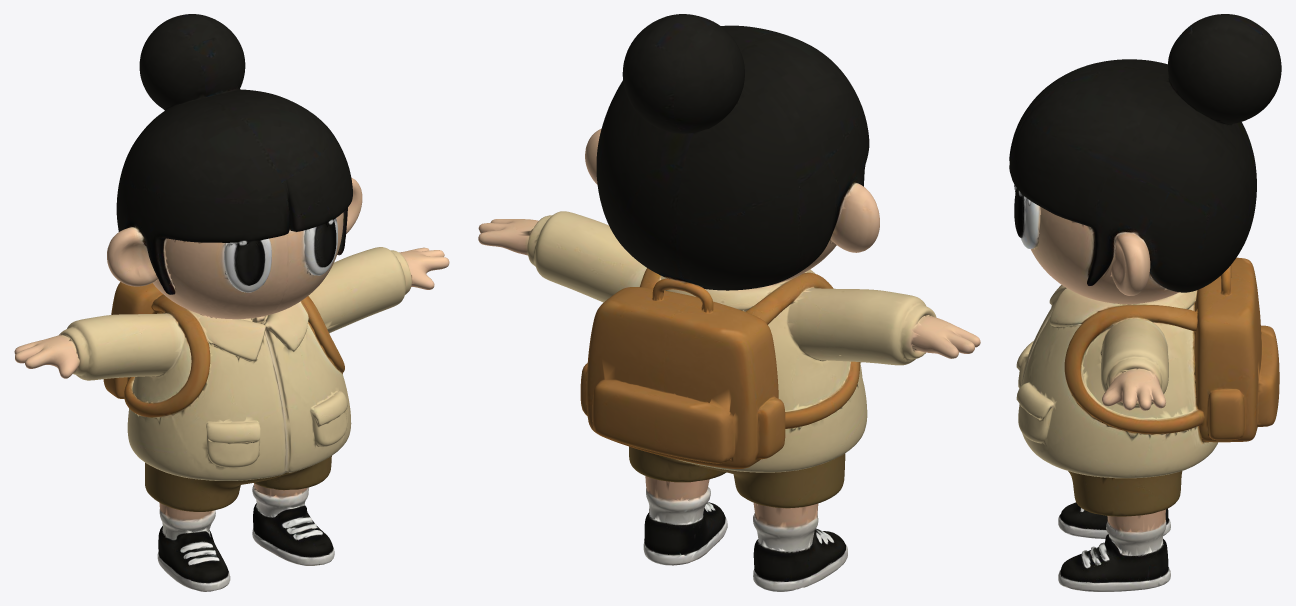
Rendered from char-bun.glb.
3 renders of one model, left to right at view 1: azimuth 30°, elevation 25°; view 2: azimuth 150°, elevation 25°; view 3: azimuth 270°, elevation 25°, orthographic. The views are drawn at different scales.
Visible parts, largest first — view 1: tripo_node_d3acd223-f219-4ece-985a-9d73b2529aa7; view 2: tripo_node_d3acd223-f219-4ece-985a-9d73b2529aa7; view 3: tripo_node_d3acd223-f219-4ece-985a-9d73b2529aa7.
Boxes of the visible parts, bbox=[...] form: tripo_node_d3acd223-f219-4ece-985a-9d73b2529aa7: bbox=[14, 14, 449, 591]; tripo_node_d3acd223-f219-4ece-985a-9d73b2529aa7: bbox=[478, 14, 980, 591]; tripo_node_d3acd223-f219-4ece-985a-9d73b2529aa7: bbox=[1009, 14, 1281, 591].
Size of the model in its own units: 0.873 by 0.9801 by 0.4508.
1 material, 1 textured.
